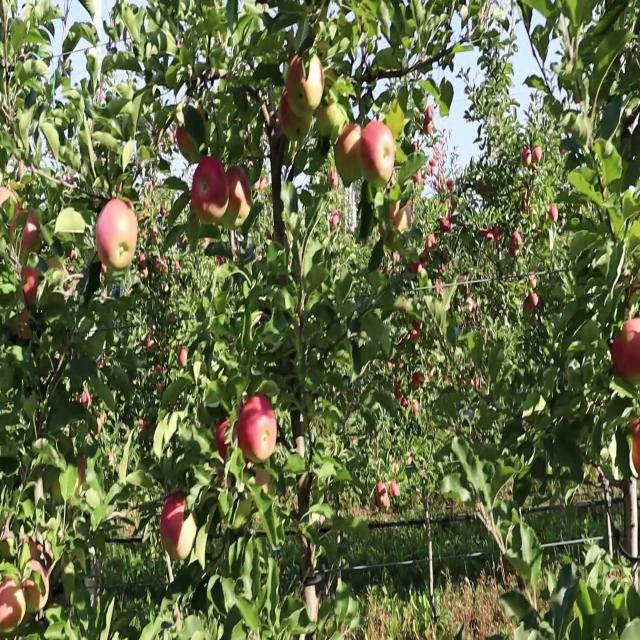apple: (95, 198, 138, 269), (160, 491, 198, 560), (191, 156, 229, 224), (238, 396, 278, 460), (286, 56, 325, 117), (360, 120, 395, 187), (220, 167, 251, 231), (611, 318, 640, 384), (334, 124, 362, 187), (50, 458, 86, 502), (279, 89, 309, 140), (0, 578, 26, 633), (301, 56, 325, 112), (25, 560, 49, 613), (59, 458, 86, 502), (316, 102, 345, 140), (215, 418, 238, 460), (21, 209, 41, 253), (176, 127, 199, 164), (21, 267, 40, 307), (629, 418, 640, 478), (390, 202, 410, 231), (20, 536, 42, 560), (10, 204, 26, 236), (18, 309, 31, 342), (522, 291, 539, 316), (255, 467, 271, 493), (401, 396, 420, 416), (422, 104, 435, 133), (509, 231, 522, 258), (375, 482, 389, 507), (0, 187, 18, 206), (76, 458, 86, 489), (411, 371, 424, 389), (96, 411, 106, 434), (521, 147, 531, 167), (389, 480, 400, 498), (531, 144, 542, 162), (478, 180, 488, 198)
